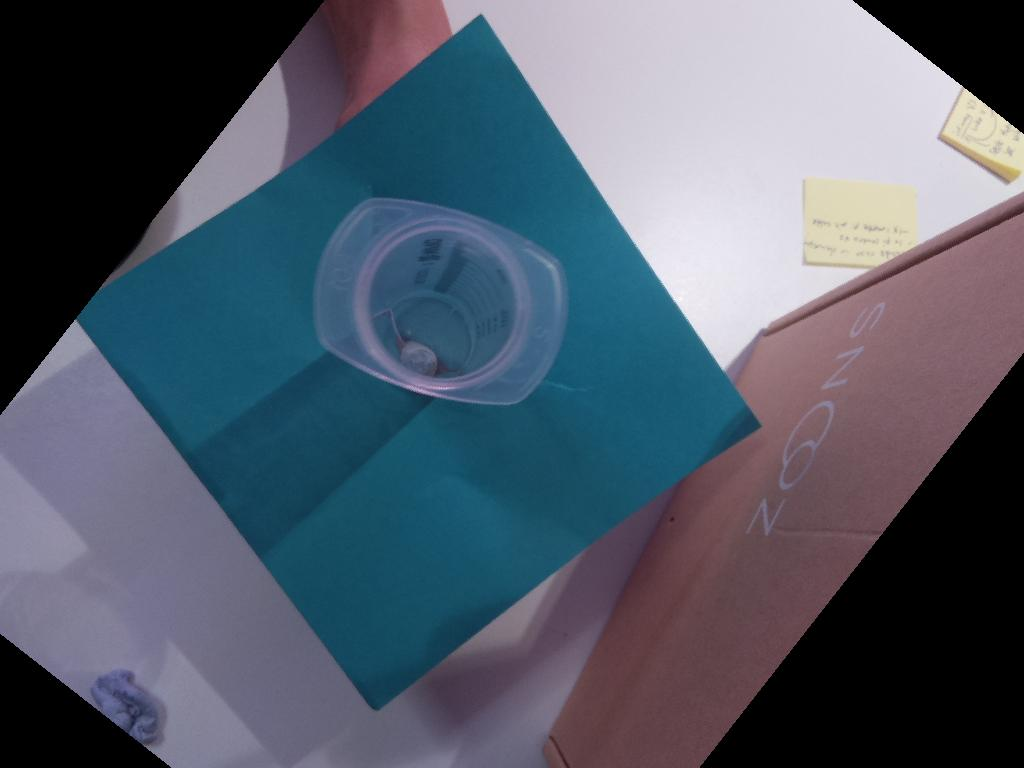clean: (309, 195, 574, 406)
